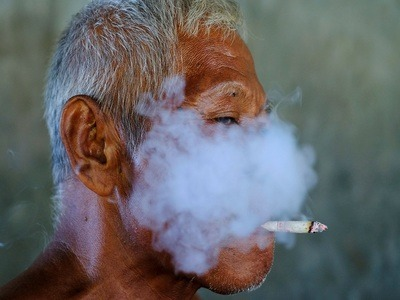cigarette: (257, 218, 330, 234)
